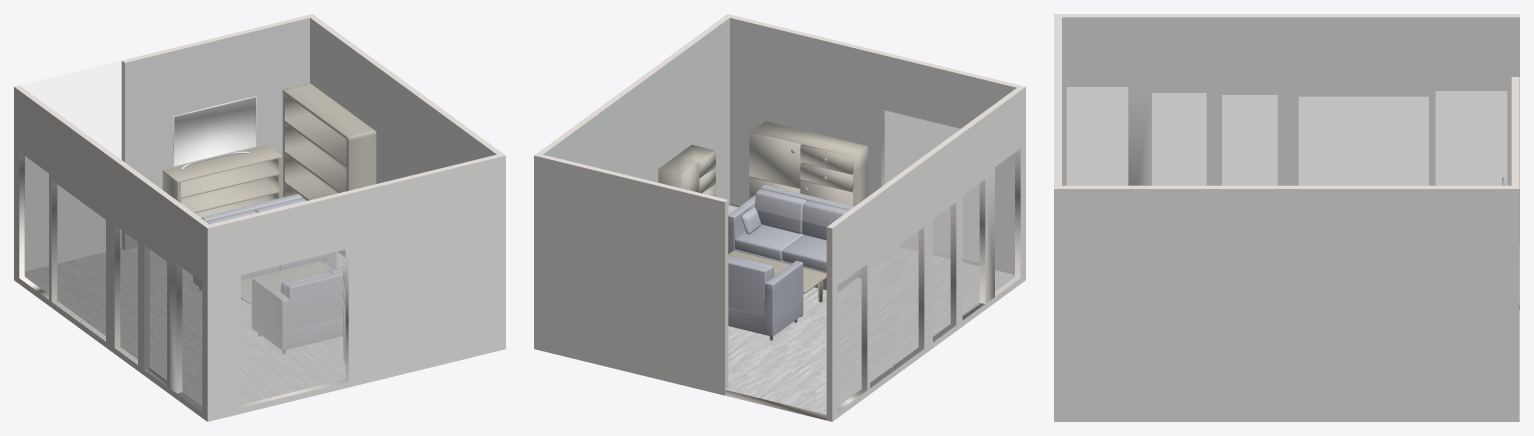
File: Staff room 3rd floor, start.fbx
3 views of the same model, side by side, from view 1: azimuth 30°, elevation 25°; view 2: azimuth 150°, elevation 25°; view 3: azimuth 270°, elevation 25° (orthographic). The views are drawn at different scales.
Visible parts, largest first — view 1: node_eea6d12e_7f9f_46d8_819e_19380d1aaa61_mesh0, node_1b6c2fa6_eaeb_40e9_91e3_a8dc7467f5aa_mesh0, node_d4e55cc0_7cad_4a7d_a19a_eabe169d1dc7_mesh0, node_d2e866c2_9773_468f_b983_d8b28d7a6412_mesh0, node_d98fcde6_087e_4588_a6fb_4b99cf71f7ed_mesh0, node_17d18dcd_7364_4a84_8bbf_2fb3337714c0_mesh0, node_24a93bec_d992_4a78_a959_07ba1f784025_mesh0, node_b767b110_efd3_4999_928a_015a0b7318fe_mesh0, node_e78d387d_60c7_4030_b481_1a7ba63298ee_mesh0, node_09f411dc_5e4a_4c8f_9903_8d3f52ce419b_mesh0, node_7ba9d929_4856_4a43_98bb_5c4059cfd809_mesh0, node_5a49def2_6b96_4166_a985_b04e93acc69c_mesh0 (+19 smaller); view 2: node_eea6d12e_7f9f_46d8_819e_19380d1aaa61_mesh0, node_af4bdc13_3384_4ca7_8074_169c625a7b57_mesh0, node_fec74986_ae90_4936_8cf1_12fd51eff48c_mesh0, node_d98fcde6_087e_4588_a6fb_4b99cf71f7ed_mesh0, node_d4e55cc0_7cad_4a7d_a19a_eabe169d1dc7_mesh0, node_b767b110_efd3_4999_928a_015a0b7318fe_mesh0, node_58d04b25_ad11_418c_8d63_e0c1fd148dc9_mesh0, node_09f411dc_5e4a_4c8f_9903_8d3f52ce419b_mesh0, node_f119b342_2fb8_4ebf_bbb0_b0f219baf10f_mesh0, node_5a49def2_6b96_4166_a985_b04e93acc69c_mesh0, node_eabd1f86_fee3_4bd8_9e0f_aefae22bc681_mesh0, node_93a98a26_730e_4a7f_9336_2378f3f1ff4b_mesh0 (+18 smaller); view 3: node_cc9b72a3_f385_4e41_b716_17b2201b0dfb_mesh0, node_eea6d12e_7f9f_46d8_819e_19380d1aaa61_mesh0, node_cd944da4_b19c_4d83_991d_a01b9e584f0b_mesh0, node_5a49def2_6b96_4166_a985_b04e93acc69c_mesh0, node_eabd1f86_fee3_4bd8_9e0f_aefae22bc681_mesh0, node_647f7803_1a2a_4114_8fc7_03209fcbfba7_mesh0, node_7dd9350c_8604_486b_837d_cd0a30711cb0_mesh0, node_5a257ee1_2382_4e0f_82c6_3caa31d09d1e_mesh0, node_f9be5d37_85d4_416d_ba89_b10b542b15cb_mesh0, node_1550b57b_21e3_467c_945b_3c93b7e7e9d7_mesh0, node_0b2c4987_c065_4dd5_b89e_017638fb44a6_mesh0, node_6079456e_77d8_4442_9630_2f4da4931ff7_mesh0 (+5 smaller).
Part boxes in pixels (x1,y1,x2,y2): node_eea6d12e_7f9f_46d8_819e_19380d1aaa61_mesh0: [20, 18, 495, 223]; node_1b6c2fa6_eaeb_40e9_91e3_a8dc7467f5aa_mesh0: [207, 155, 505, 421]; node_d4e55cc0_7cad_4a7d_a19a_eabe169d1dc7_mesh0: [14, 87, 207, 421]; node_d2e866c2_9773_468f_b983_d8b28d7a6412_mesh0: [125, 18, 309, 249]; node_d98fcde6_087e_4588_a6fb_4b99cf71f7ed_mesh0: [25, 247, 345, 405]; node_17d18dcd_7364_4a84_8bbf_2fb3337714c0_mesh0: [241, 250, 345, 404]; node_24a93bec_d992_4a78_a959_07ba1f784025_mesh0: [241, 250, 345, 403]; node_b767b110_efd3_4999_928a_015a0b7318fe_mesh0: [310, 18, 496, 183]; node_e78d387d_60c7_4030_b481_1a7ba63298ee_mesh0: [282, 83, 376, 257]; node_09f411dc_5e4a_4c8f_9903_8d3f52ce419b_mesh0: [252, 266, 345, 353]; node_7ba9d929_4856_4a43_98bb_5c4059cfd809_mesh0: [162, 145, 281, 217]; node_5a49def2_6b96_4166_a985_b04e93acc69c_mesh0: [57, 185, 105, 335]; node_eea6d12e_7f9f_46d8_819e_19380d1aaa61_mesh0: [544, 18, 1015, 226]; node_af4bdc13_3384_4ca7_8074_169c625a7b57_mesh0: [534, 155, 724, 395]; node_fec74986_ae90_4936_8cf1_12fd51eff48c_mesh0: [730, 18, 1016, 274]; node_d98fcde6_087e_4588_a6fb_4b99cf71f7ed_mesh0: [725, 205, 1014, 414]; node_d4e55cc0_7cad_4a7d_a19a_eabe169d1dc7_mesh0: [832, 87, 1025, 421]; node_b767b110_efd3_4999_928a_015a0b7318fe_mesh0: [543, 18, 729, 205]; node_58d04b25_ad11_418c_8d63_e0c1fd148dc9_mesh0: [749, 121, 867, 206]; node_09f411dc_5e4a_4c8f_9903_8d3f52ce419b_mesh0: [728, 185, 861, 291]; node_f119b342_2fb8_4ebf_bbb0_b0f219baf10f_mesh0: [826, 149, 1020, 421]; node_5a49def2_6b96_4166_a985_b04e93acc69c_mesh0: [870, 231, 918, 382]; node_eabd1f86_fee3_4bd8_9e0f_aefae22bc681_mesh0: [870, 232, 918, 382]; node_93a98a26_730e_4a7f_9336_2378f3f1ff4b_mesh0: [728, 254, 803, 340]; node_cc9b72a3_f385_4e41_b716_17b2201b0dfb_mesh0: [1054, 189, 1519, 421]; node_eea6d12e_7f9f_46d8_819e_19380d1aaa61_mesh0: [1062, 18, 1519, 184]; node_cd944da4_b19c_4d83_991d_a01b9e584f0b_mesh0: [1062, 17, 1519, 242]; node_5a49def2_6b96_4166_a985_b04e93acc69c_mesh0: [1299, 97, 1428, 185]; node_eabd1f86_fee3_4bd8_9e0f_aefae22bc681_mesh0: [1299, 97, 1428, 185]; node_647f7803_1a2a_4114_8fc7_03209fcbfba7_mesh0: [1436, 91, 1506, 185]; node_7dd9350c_8604_486b_837d_cd0a30711cb0_mesh0: [1436, 91, 1506, 185]; node_5a257ee1_2382_4e0f_82c6_3caa31d09d1e_mesh0: [1067, 87, 1127, 185]; node_f9be5d37_85d4_416d_ba89_b10b542b15cb_mesh0: [1067, 87, 1127, 185]; node_1550b57b_21e3_467c_945b_3c93b7e7e9d7_mesh0: [1152, 93, 1206, 185]; node_0b2c4987_c065_4dd5_b89e_017638fb44a6_mesh0: [1222, 95, 1277, 185]; node_6079456e_77d8_4442_9630_2f4da4931ff7_mesh0: [1152, 93, 1206, 185].
Bounding box in the file's own units: 527 × 327 × 592.
Materials: 10 (1 with a texture image).
